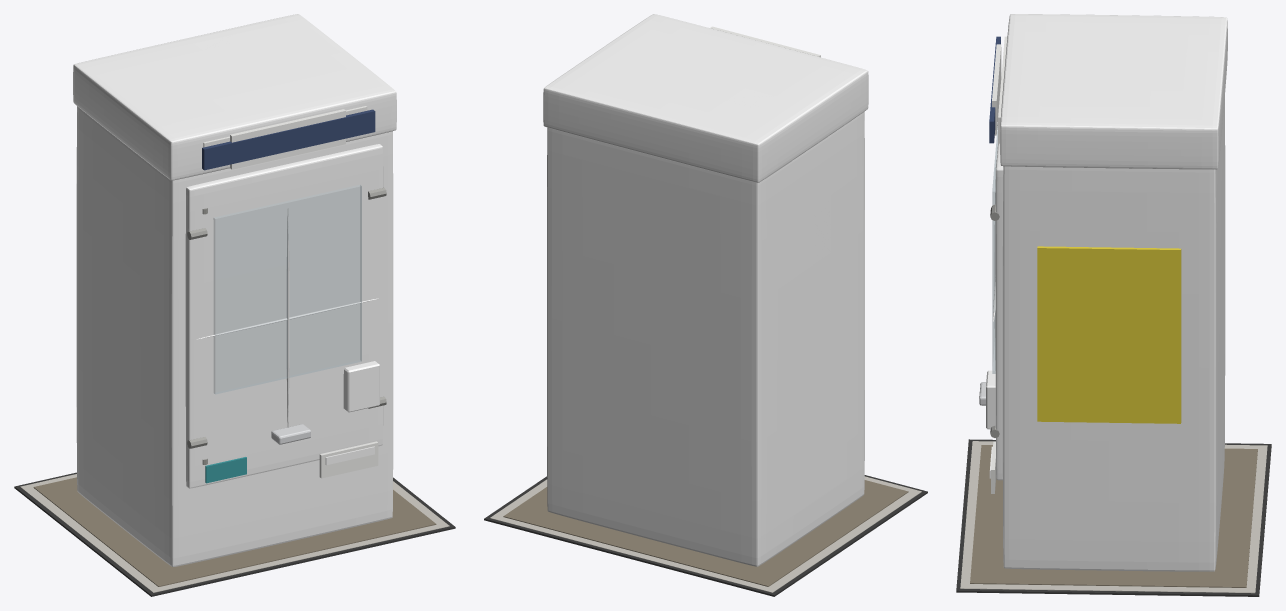
The model's file is hm_prop_newsbox_v2.glb.
3 views of the same model, side by side, from view 1: azimuth 30°, elevation 25°; view 2: azimuth 150°, elevation 25°; view 3: azimuth 270°, elevation 25° (orthographic). The views are drawn at different scales.
Visible parts, largest first — view 1: News_Body, News_Door, News_Header, News_Win, hm_prop_newsbox_v2_Dirt, hm_prop_newsbox_v2_SaltRing, News_Mast, hm_prop_newsbox_v2_Shadow, hm_prop_newsbox_v2_HeraldDecal, News_Coin, hm_prop_newsbox_v2_HeraldInk, hm_prop_newsbox_v2_AssetPlate (+3 smaller); view 2: News_Body, News_Header, hm_prop_newsbox_v2_Dirt, hm_prop_newsbox_v2_SaltRing, hm_prop_newsbox_v2_Shadow; view 3: News_Body, News_Header, News_SideAd, hm_prop_newsbox_v2_Dirt, hm_prop_newsbox_v2_SaltRing, hm_prop_newsbox_v2_Shadow, News_Door, News_Win, News_Coin, hm_prop_newsbox_v2_HeraldDecal.
Boxes of the visible parts, <box> form: News_Body: <box>76,106,393,566</box>; News_Door: <box>185,144,383,488</box>; News_Header: <box>73,14,396,180</box>; News_Win: <box>213,185,361,394</box>; hm_prop_newsbox_v2_Dirt: <box>33,477,436,586</box>; hm_prop_newsbox_v2_SaltRing: <box>20,474,449,592</box>; News_Mast: <box>202,109,375,170</box>; hm_prop_newsbox_v2_Shadow: <box>14,472,455,596</box>; hm_prop_newsbox_v2_HeraldDecal: <box>230,109,345,169</box>; News_Coin: <box>343,361,379,412</box>; hm_prop_newsbox_v2_HeraldInk: <box>245,122,334,158</box>; hm_prop_newsbox_v2_AssetPlate: <box>319,441,378,478</box>; News_Body: <box>547,111,864,566</box>; News_Header: <box>543,14,868,182</box>; hm_prop_newsbox_v2_Dirt: <box>503,480,908,586</box>; hm_prop_newsbox_v2_SaltRing: <box>490,476,921,592</box>; hm_prop_newsbox_v2_Shadow: <box>484,475,927,596</box>; News_Body: <box>1002,97,1225,571</box>; News_Header: <box>1000,14,1227,169</box>; News_SideAd: <box>1037,246,1181,423</box>; hm_prop_newsbox_v2_Dirt: <box>970,445,1257,587</box>; hm_prop_newsbox_v2_SaltRing: <box>960,441,1267,593</box>; hm_prop_newsbox_v2_Shadow: <box>956,439,1271,596</box>; News_Door: <box>995,143,1003,480</box>; News_Win: <box>992,124,997,373</box>; News_Coin: <box>986,370,995,429</box>; hm_prop_newsbox_v2_HeraldDecal: <box>992,44,1001,135</box>.
Size of the model in its own units: 0.7691 by 1.03 by 0.6582.
